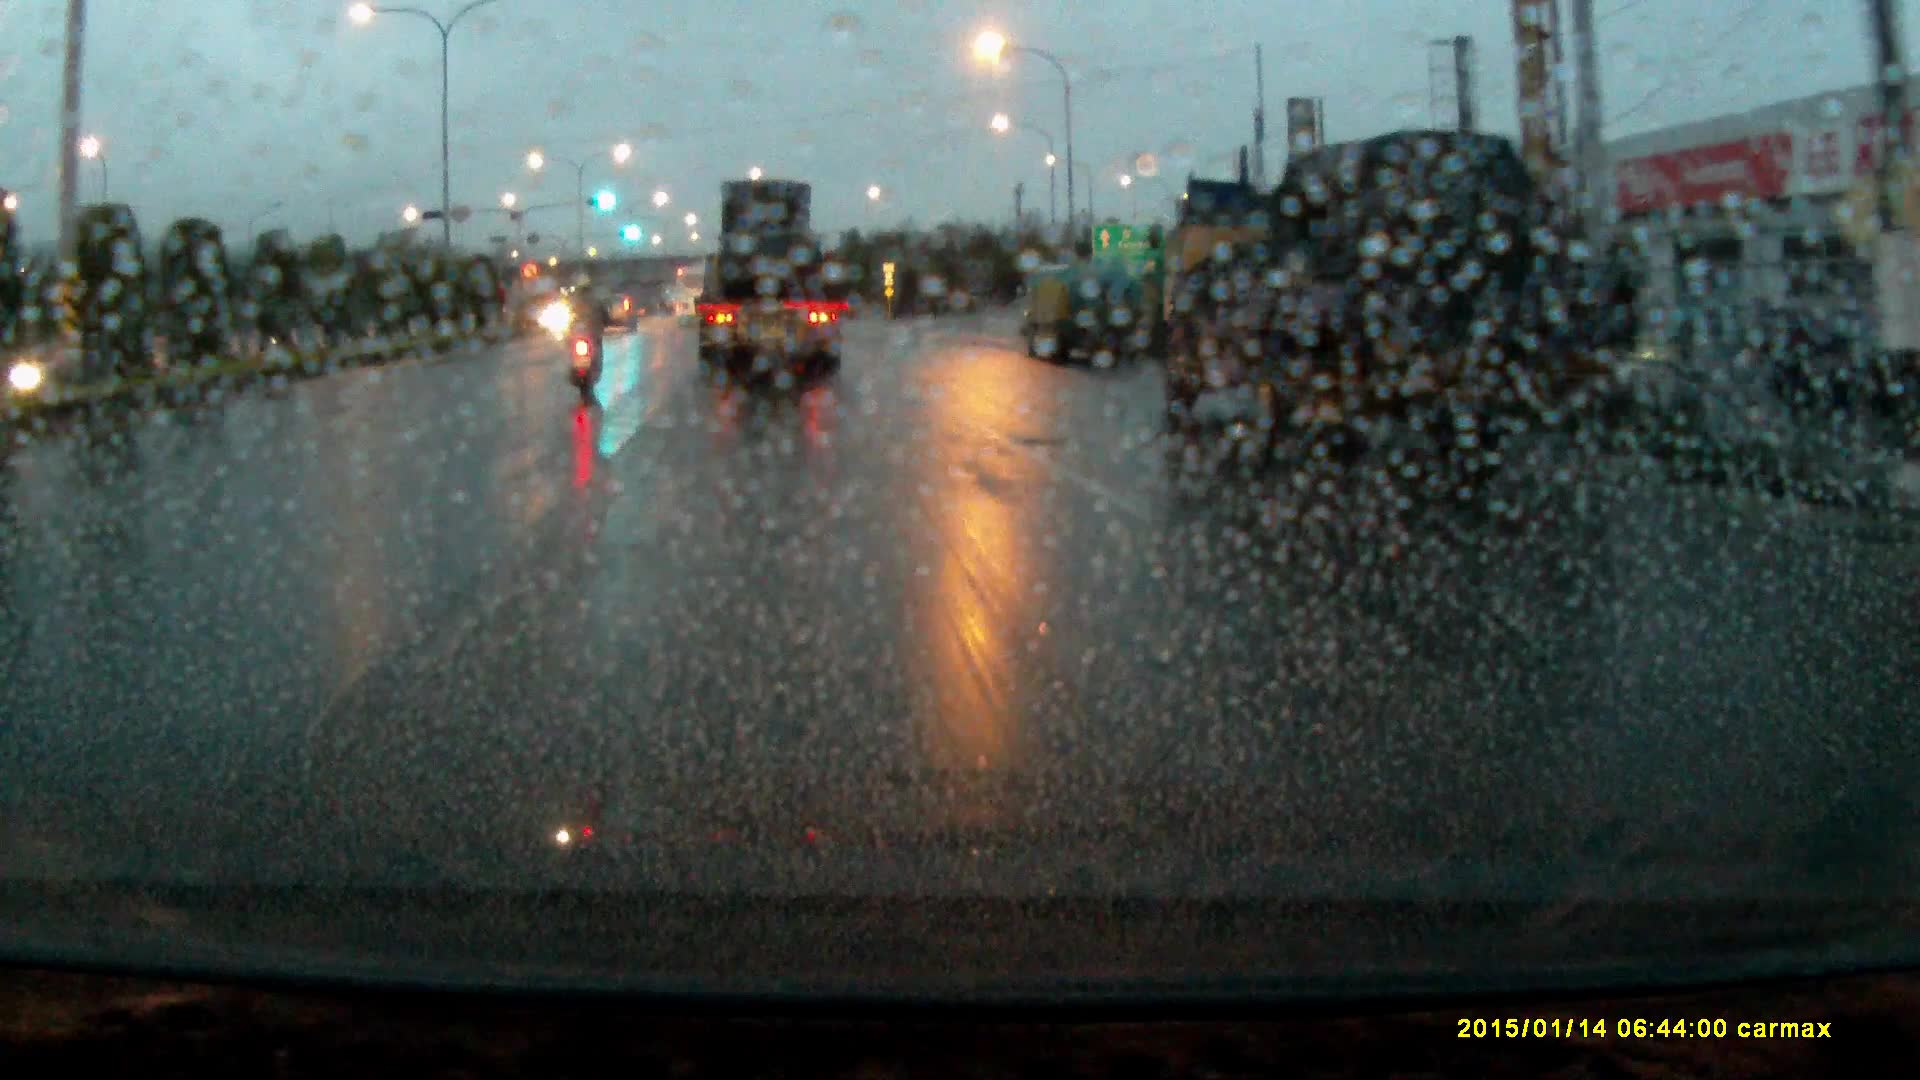rider: (559, 272, 613, 404)
vehicle: (1166, 138, 1581, 476), (691, 177, 848, 383), (1015, 266, 1145, 366), (597, 289, 641, 332), (675, 267, 706, 325)
